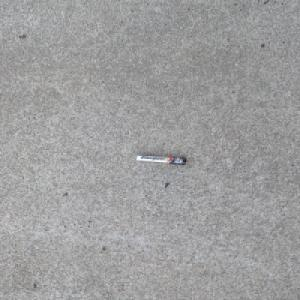Battery: (134, 154, 188, 166)
